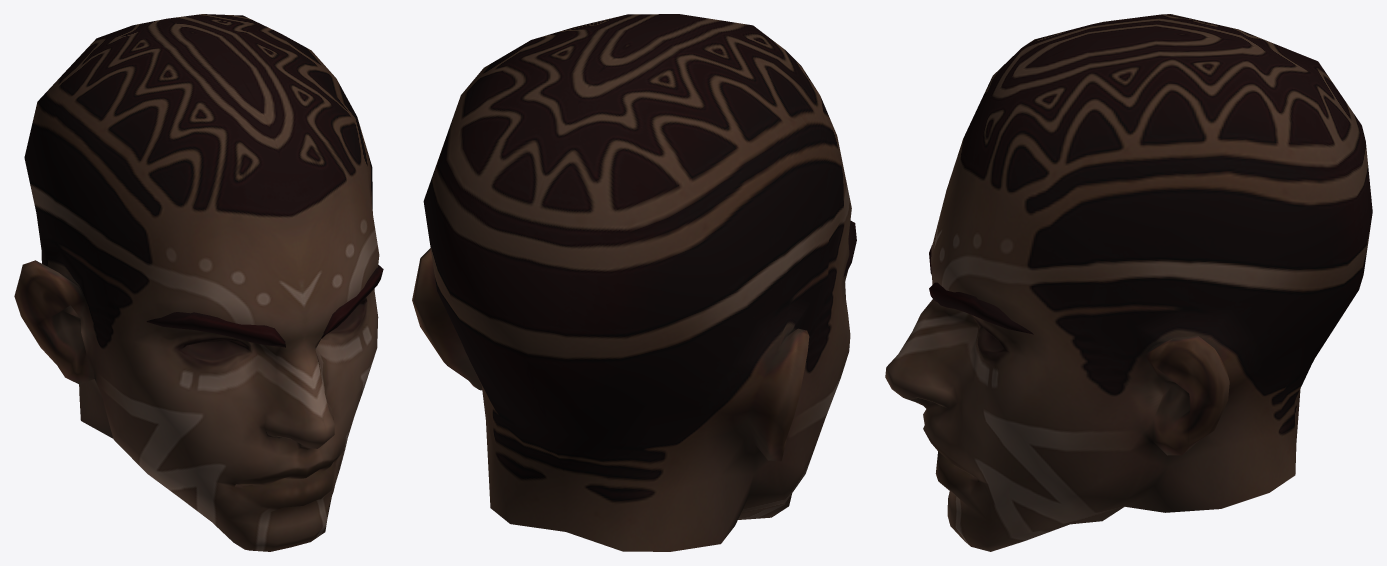
Rendered from Min_035_Kanaka_01_a_AddSkill_1.FBX.
The picture shows the model from 3 angles, left to right: view 1: azimuth 30°, elevation 25°; view 2: azimuth 150°, elevation 25°; view 3: azimuth 270°, elevation 25°; orthographic projection. The views are drawn at different scales.
Visible parts, largest first — view 1: Face; view 2: Face; view 3: Face.
Boxes of the visible parts, box(x1,y1,x2,y2) form: Face: box(14, 14, 383, 551); Face: box(412, 14, 856, 551); Face: box(885, 14, 1372, 551).
Size of the model in its own units: 17.53 by 20.57 by 23.61.
